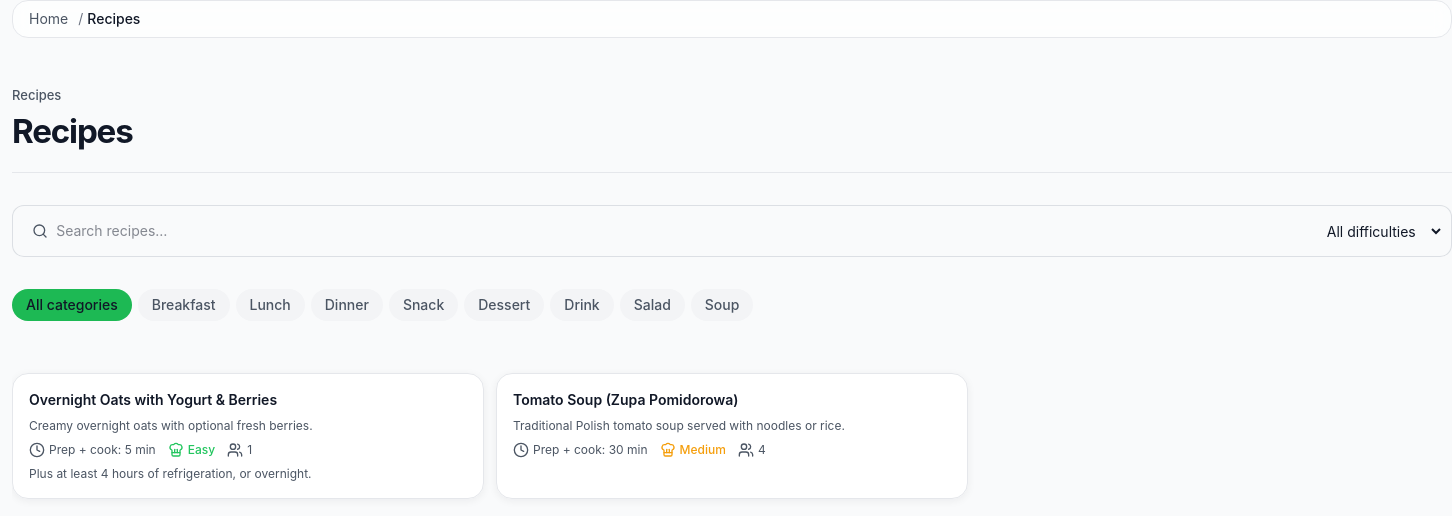
Test: RecipesBrowsePage › filters recipes client-side by title when searching
Expected: the heading "Overnight Oats with Yogurt & Berries" is shown, [29,391,277,408]
Type "Tomato" into the search field with placeholder "Search recipes…" at (661, 231), box [20,213,1301,249]
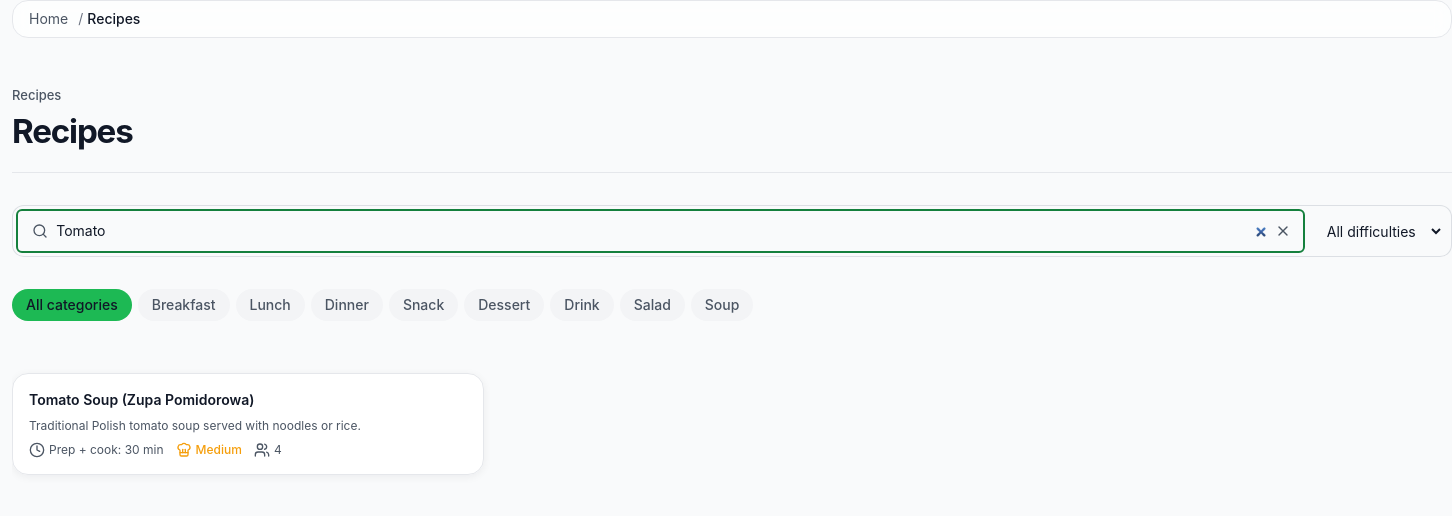
Expected: the heading "Tomato Soup (Zupa Pomidorowa)" is shown, [29,391,254,408]
Expected: the link "Overnight Oats with Yogurt & Berries" is gone
